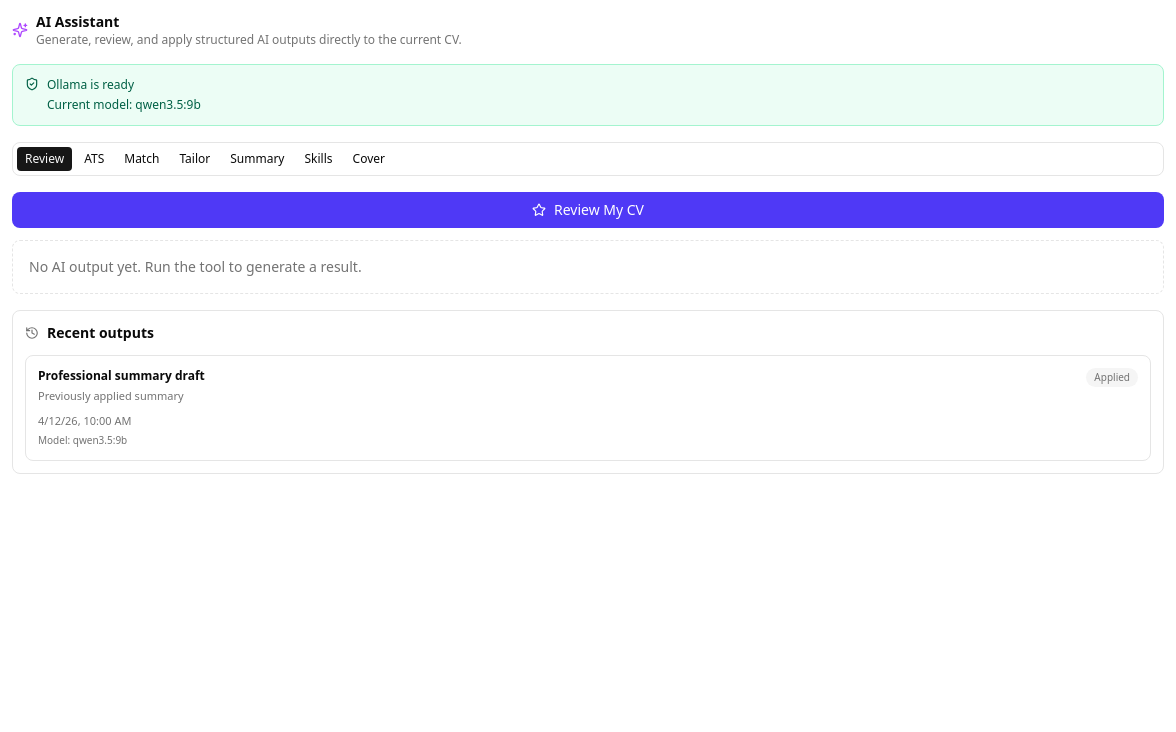
Test: AIAssistPanel › does not let an older applied artifact override a newly generated summary
The width and height of the screenshot is (1176, 732).
Click the button with test id "ai-tab-summary": click(257, 159) top-left (222, 147), bottom-right (292, 171)
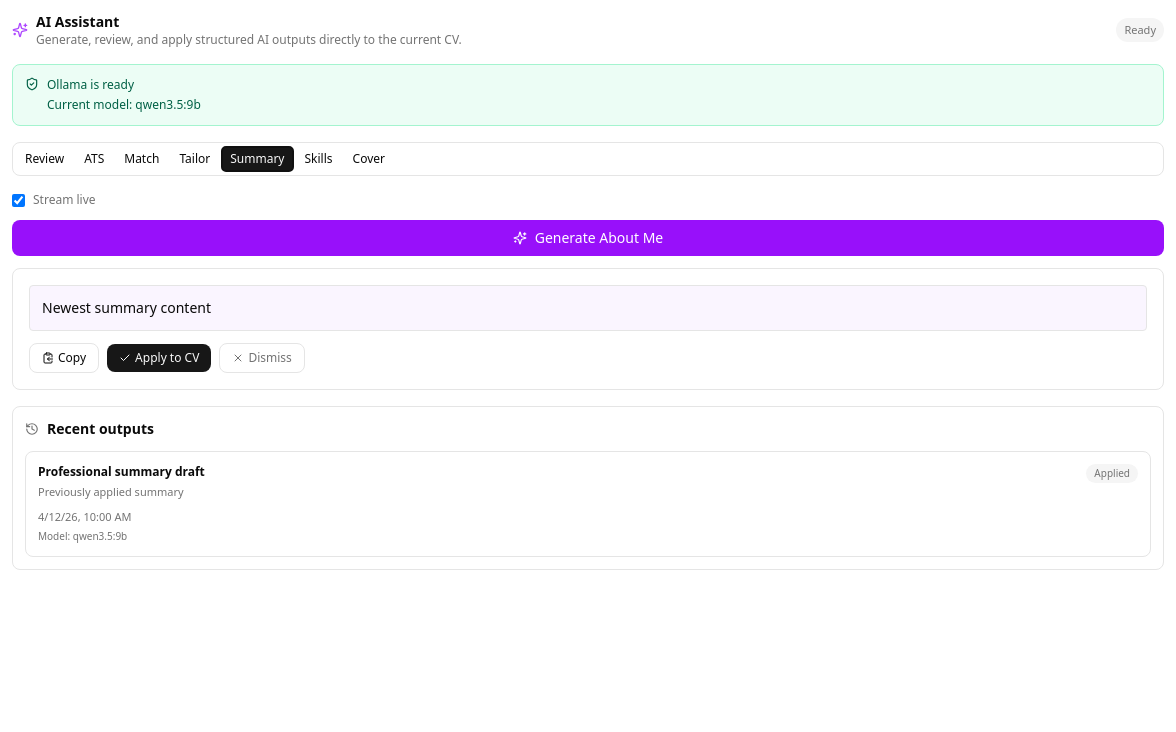
Check: the text with test id "ai-current-artifact-status" reads "Ready", box top-left (1124, 22), bottom-right (1156, 37)
Check: the button "Apply to CV" is shown, box top-left (107, 344), bottom-right (211, 372)
